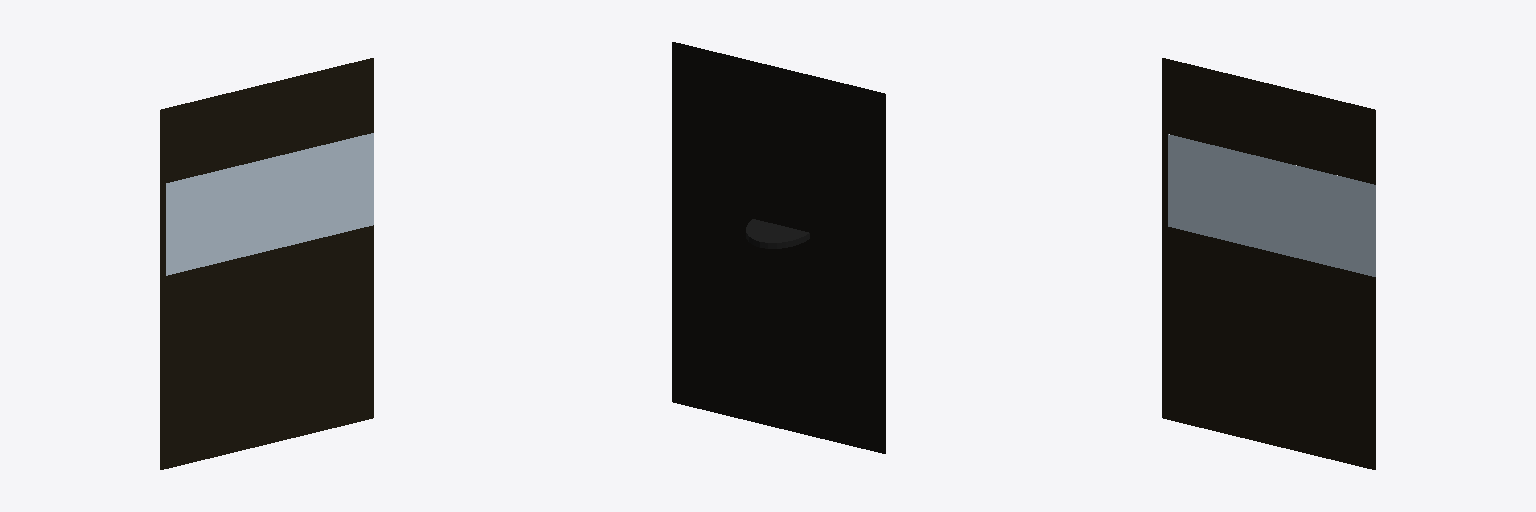
The model's file is Depot.obj.
3 renders of one model, left to right at view 1: azimuth 30°, elevation 25°; view 2: azimuth 150°, elevation 25°; view 3: azimuth 330°, elevation 25°, orthographic.
Visible parts, largest first — view 1: Mesh1 Group1 Model, Mesh3 Group2 Model; view 2: Mesh1 Group1 Model, Mesh5 Component_16_1 Model; view 3: Mesh1 Group1 Model, Mesh3 Group2 Model.
Part boxes in pixels (x1,y1,x2,y2): Mesh1 Group1 Model: (160,58,373,469); Mesh3 Group2 Model: (166,133,373,275); Mesh1 Group1 Model: (672,42,885,453); Mesh5 Component_16_1 Model: (746,219,809,248); Mesh1 Group1 Model: (1162,58,1375,469); Mesh3 Group2 Model: (1168,134,1375,276).
Bounding box in the file's own units: 1.03 × 1.65 × 0.1846.